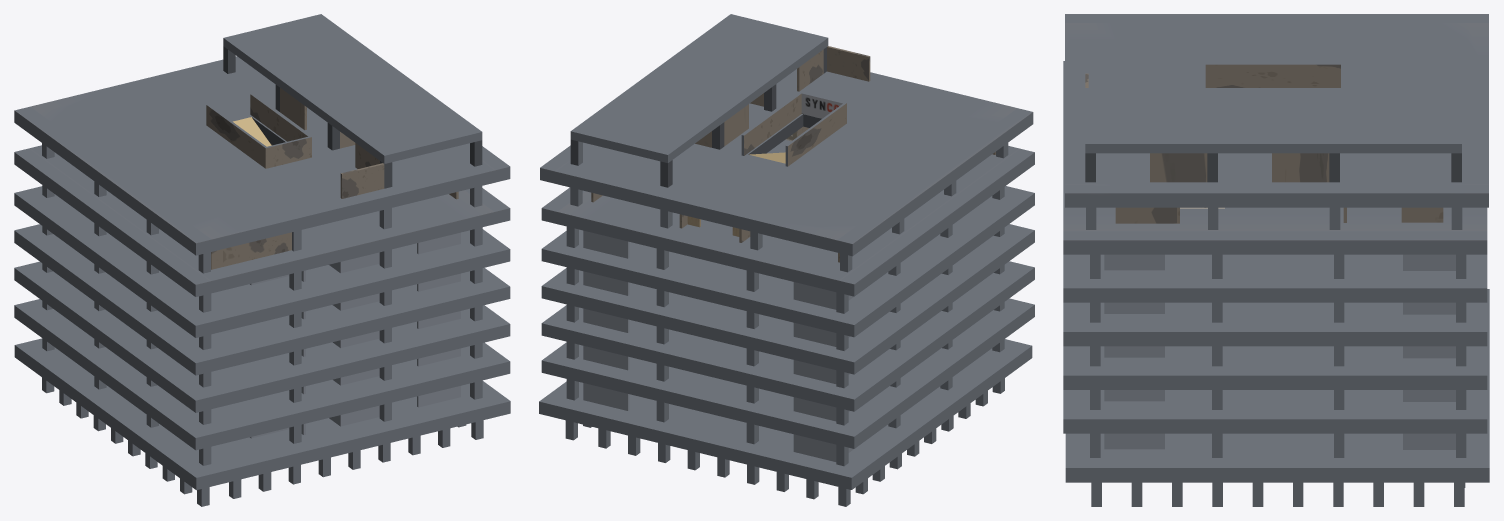
The model's file is main_building.fbx.
3 views of the same model, side by side, from view 1: azimuth 30°, elevation 25°; view 2: azimuth 150°, elevation 25°; view 3: azimuth 270°, elevation 25° (orthographic). The views are drawn at different scales.
Parts seen in each view (by area): view 1: Plane; view 2: Plane; view 3: Plane.
Boxes of the visible parts, x1,y1,x2,y2 form: Plane: (14, 14, 510, 506); Plane: (539, 14, 1034, 506); Plane: (1063, 14, 1489, 506).
Bounding box in the file's own units: 4020 × 3756 × 4022.
